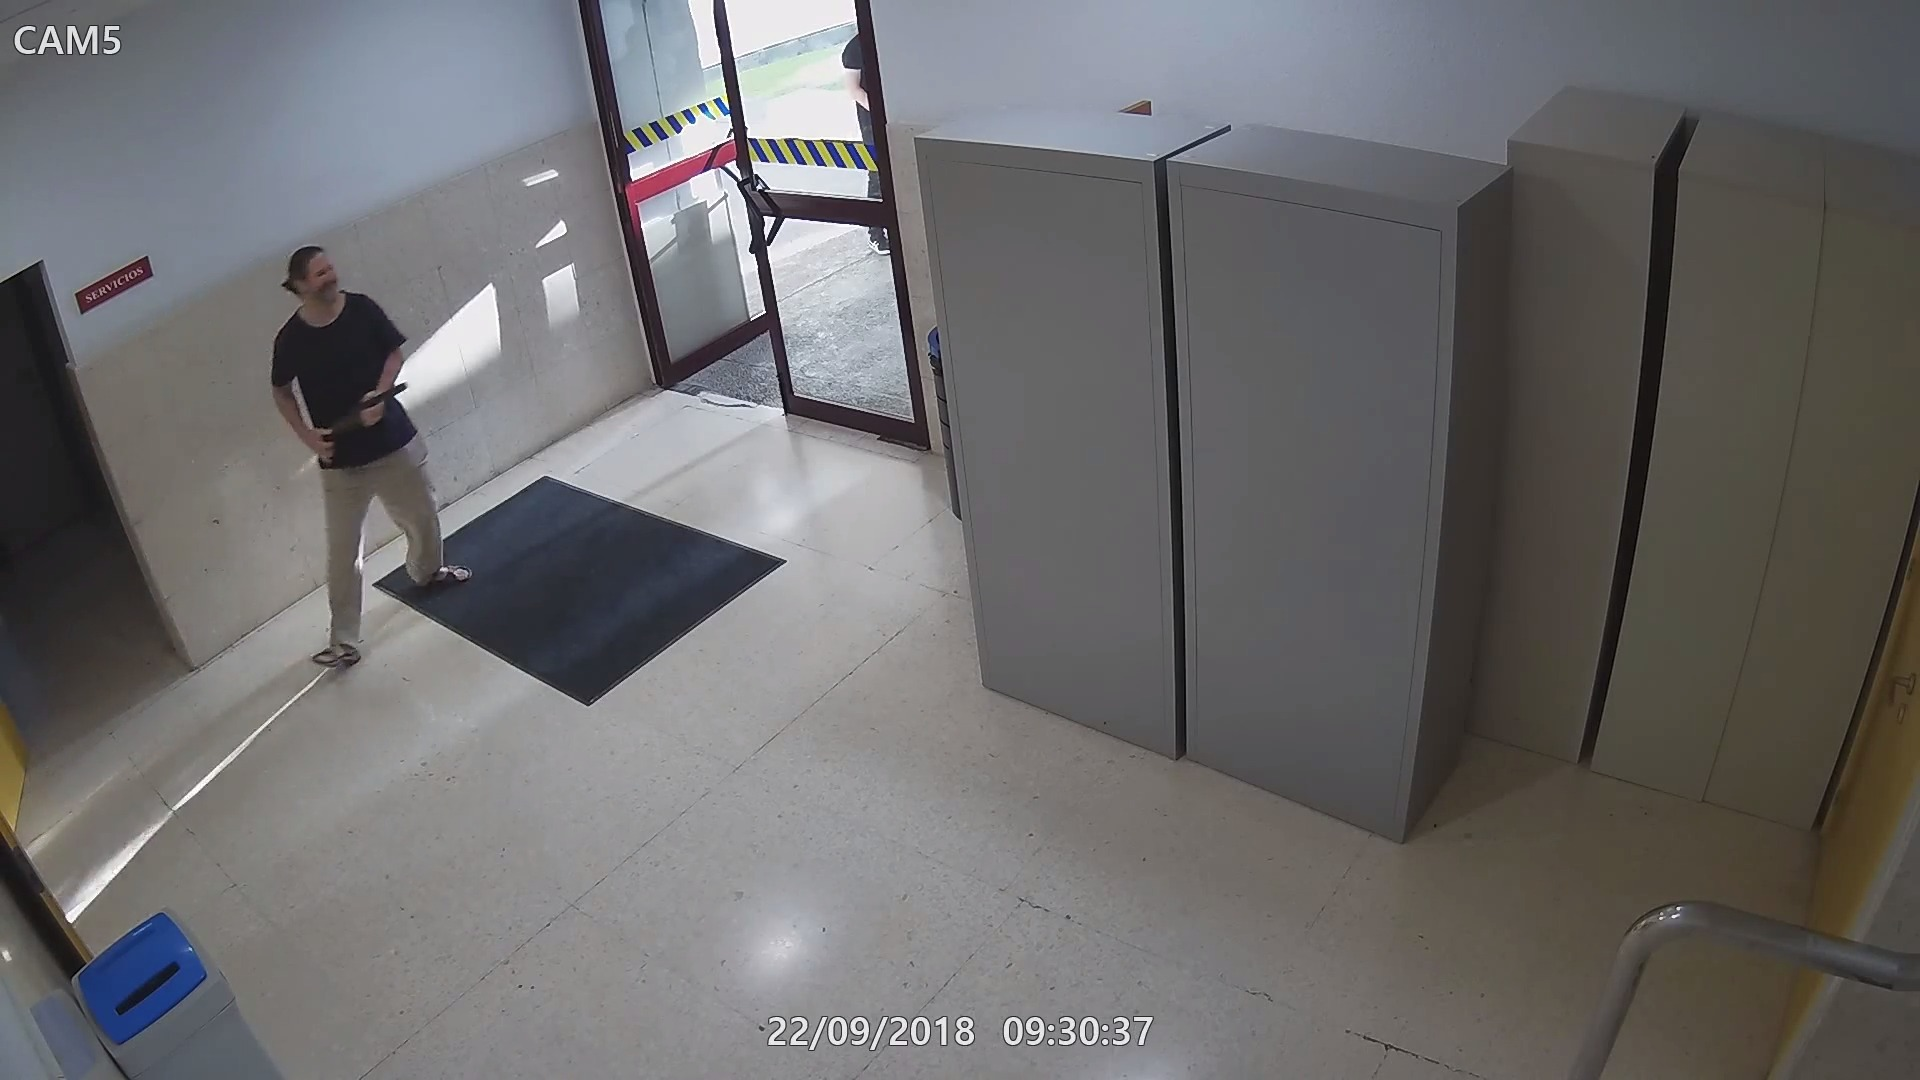Short_rifle: (306, 382, 409, 467)
